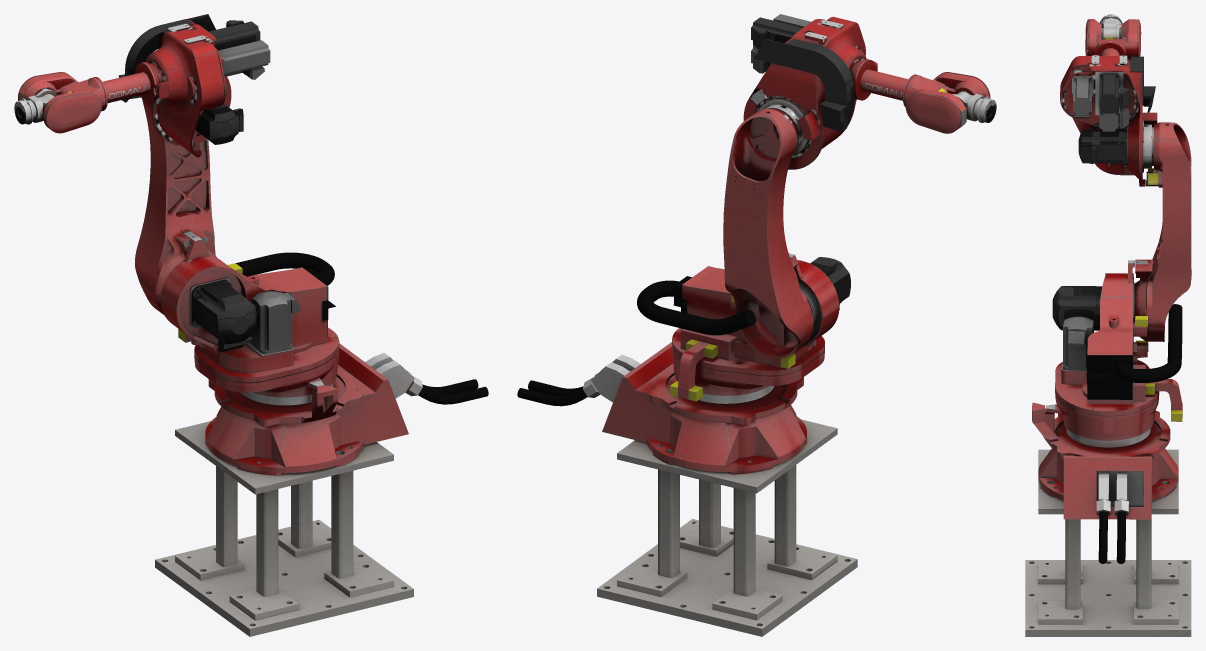
File: robot.obj
3 renders of one model, left to right at view 1: azimuth 30°, elevation 25°; view 2: azimuth 150°, elevation 25°; view 3: azimuth 270°, elevation 25°, orthographic. The views are drawn at different scales.
Parts seen in each view (by area): view 1: cell1_69, cell1_64, cell1_67, cell1_58, cell1_61, cell1_71, cell1_73, cell1_60, cell1_62, cell1_59, cell1_63, cell1_70 (+3 smaller); view 2: cell1_69, cell1_64, cell1_61, cell1_71, cell1_58, cell1_67, cell1_73, cell1_63, cell1_62, cell1_70, cell1_68, cell1_60; view 3: cell1_69, cell1_58, cell1_61, cell1_64, cell1_67, cell1_71, cell1_63, cell1_62, cell1_60, cell1_57, cell1_59, cell1_73 (+5 smaller).
Part boxes in pixels (box(x1,y1,x2,y2)): cell1_69: box(205, 343, 488, 475); cell1_64: box(175, 421, 393, 620); cell1_67: box(160, 236, 339, 382); cell1_58: box(155, 519, 413, 636); cell1_61: box(135, 99, 216, 314); cell1_71: box(118, 14, 231, 157); cell1_73: box(18, 72, 105, 133); cell1_60: box(191, 279, 256, 352); cell1_62: box(194, 346, 339, 397); cell1_59: box(250, 291, 300, 354); cell1_63: box(236, 252, 335, 336); cell1_70: box(94, 62, 156, 110); cell1_69: box(517, 342, 806, 474); cell1_64: box(617, 419, 837, 620); cell1_61: box(723, 108, 813, 358); cell1_71: box(743, 16, 877, 169); cell1_58: box(597, 519, 857, 636); cell1_67: box(670, 253, 839, 401); cell1_73: box(904, 72, 990, 133); cell1_63: box(637, 276, 755, 335); cell1_62: box(672, 345, 824, 395); cell1_70: box(854, 59, 916, 106); cell1_68: box(751, 17, 802, 49); cell1_60: box(810, 257, 850, 310); cell1_69: box(1032, 402, 1178, 563); cell1_58: box(1025, 560, 1191, 636); cell1_61: box(1135, 122, 1191, 341); cell1_64: box(1038, 449, 1178, 624); cell1_67: box(1055, 260, 1182, 421); cell1_71: box(1060, 55, 1157, 186); cell1_63: box(1086, 304, 1182, 399); cell1_62: box(1045, 389, 1159, 440); cell1_60: box(1052, 286, 1102, 330); cell1_57: box(1078, 129, 1127, 164); cell1_59: box(1062, 316, 1093, 370); cell1_73: box(1085, 19, 1141, 60).
Size of the model in its own units: 1828 by 2165 by 650.
Materials: 18 (18 with a texture image).
